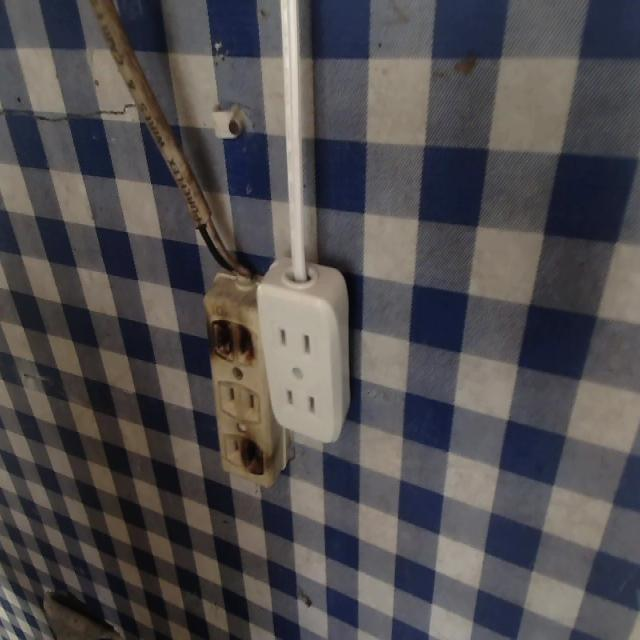-: (204, 313, 261, 372), (239, 431, 266, 478)
